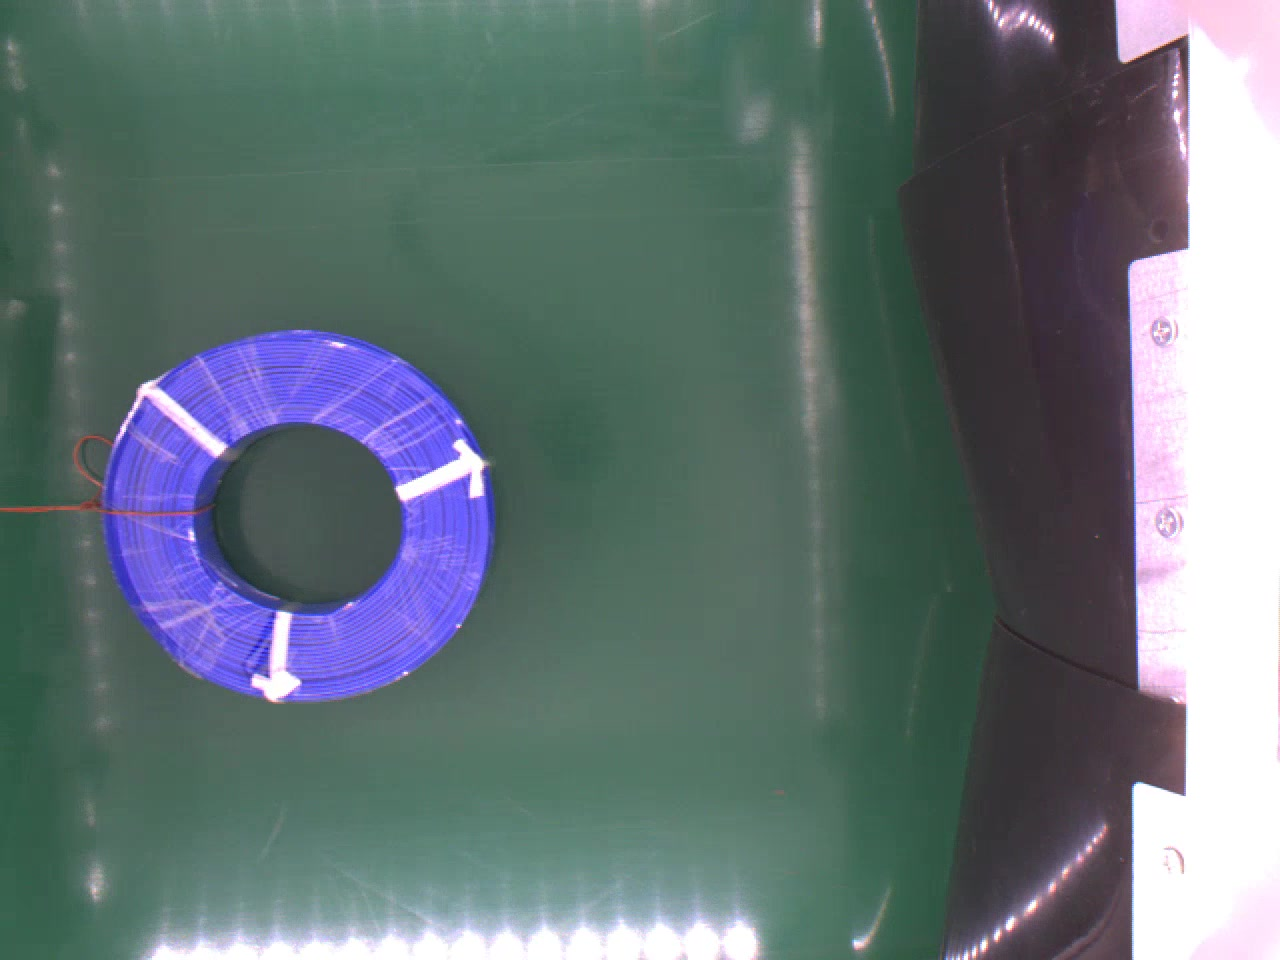blue: (100, 326, 493, 698)
